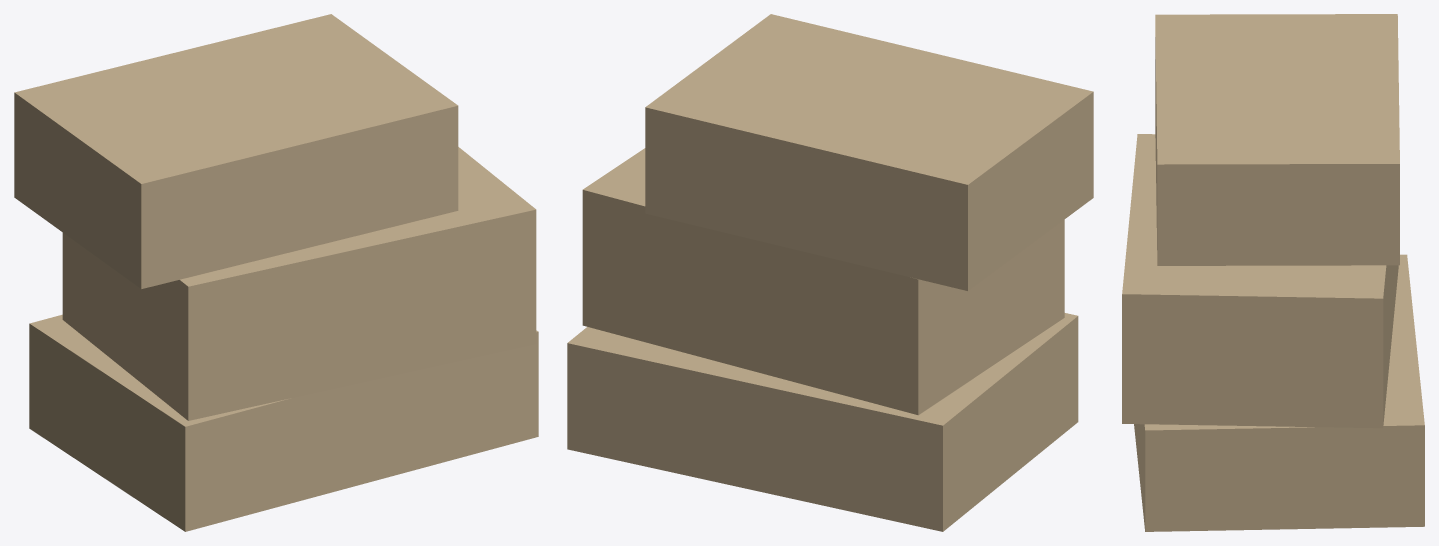
The model's file is cardboard_stack_04.glb.
The picture shows the model from 3 angles, left to right: view 1: azimuth 30°, elevation 25°; view 2: azimuth 150°, elevation 25°; view 3: azimuth 270°, elevation 25°; orthographic projection. The views are drawn at different scales.
Parts seen in each view (by area): view 1: box2, box1, box0; view 2: box2, box0, box1; view 3: box2, box1, box0.
Part boxes in pixels (<box>): box2: <box>14,14,458,288</box>; box1: <box>62,147,536,420</box>; box0: <box>29,314,538,531</box>; box2: <box>645,14,1093,290</box>; box0: <box>567,313,1078,531</box>; box1: <box>582,148,1064,415</box>; box2: <box>1155,14,1399,265</box>; box1: <box>1122,134,1398,428</box>; box0: <box>1134,254,1424,531</box>.
Bounding box in the file's own units: 0.7048 × 0.59 × 0.4866.
